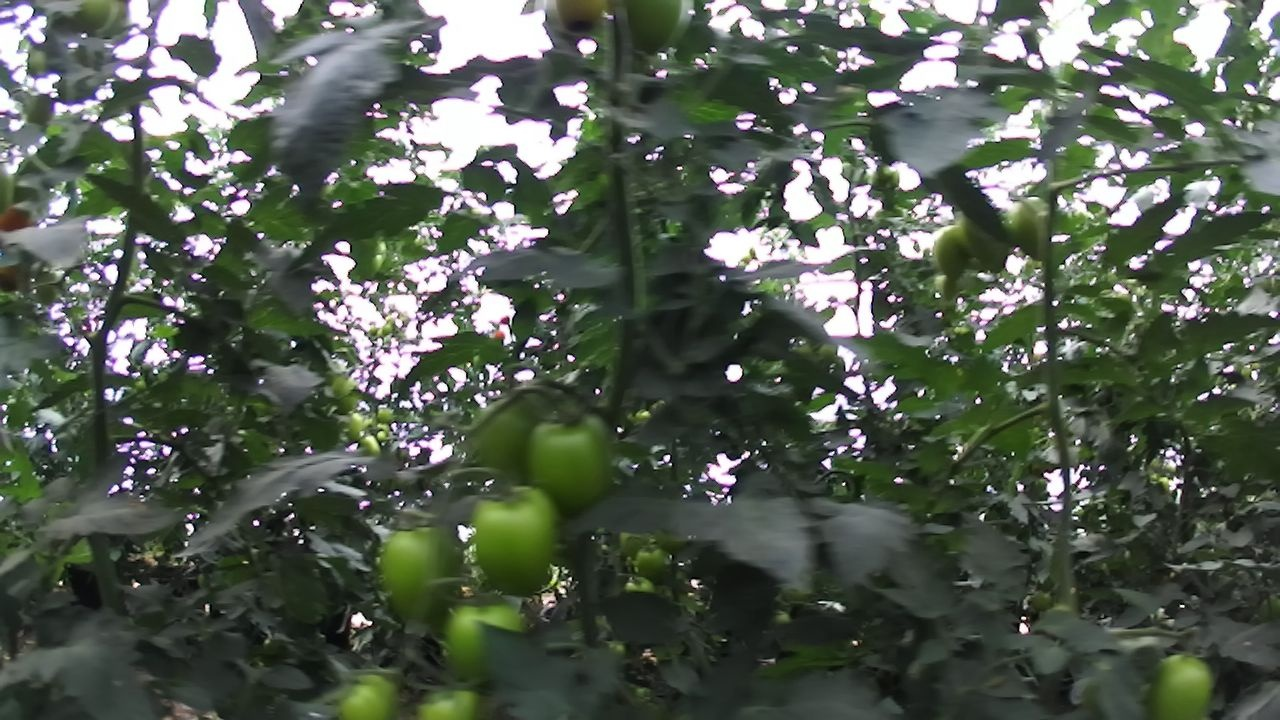tomato: (513, 394, 631, 529), (456, 476, 573, 612), (373, 516, 477, 635), (429, 582, 538, 688), (451, 381, 555, 490), (1133, 632, 1242, 720), (945, 201, 1024, 284), (613, 0, 698, 69), (998, 190, 1071, 268), (330, 659, 411, 720), (922, 217, 987, 290), (67, 0, 124, 45), (324, 369, 369, 422), (631, 543, 675, 584), (614, 524, 655, 566), (866, 159, 905, 195), (339, 403, 370, 446), (355, 428, 389, 463)
